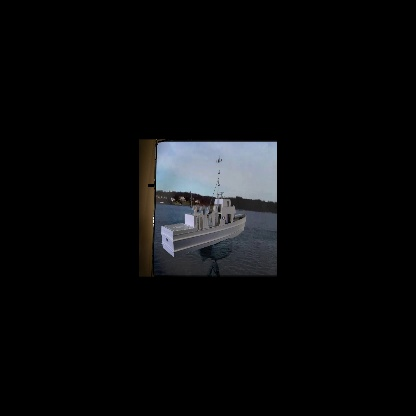YP689: (160, 157, 247, 260)
